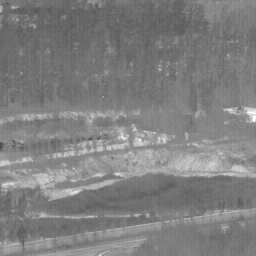aircraft: (102, 96, 104, 98)
